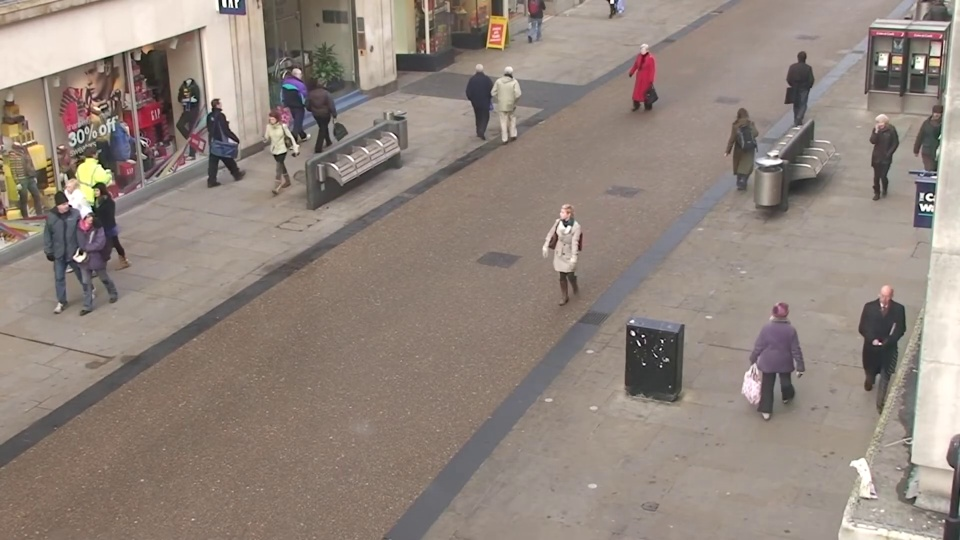pedestrian: (854, 280, 911, 421), (760, 288, 811, 430), (59, 203, 113, 320), (35, 193, 89, 307), (43, 176, 95, 286), (71, 181, 121, 292), (543, 203, 581, 323), (907, 102, 954, 199), (82, 138, 127, 237), (856, 113, 898, 210), (254, 113, 289, 206), (210, 93, 245, 180), (728, 101, 760, 193), (311, 71, 342, 153), (786, 47, 817, 125), (286, 62, 316, 141), (499, 61, 527, 142), (470, 57, 498, 136), (624, 43, 650, 119)
